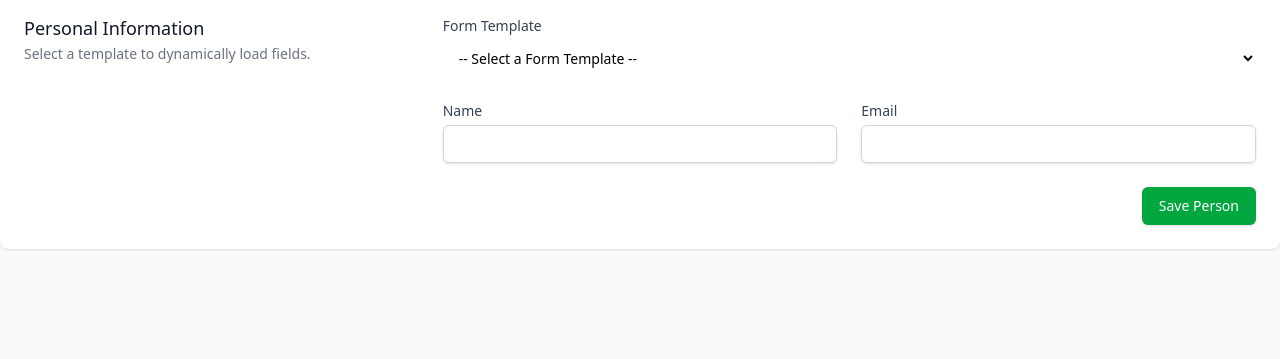
Test: PersonCreate.vue › displays error message when API returns 400 Bad Request
This screenshot has width=1280, height=359.
Note: Fill form
Step 1. Type "Test User" into the field with id "name" → (640, 144), box [443,125,837,163]
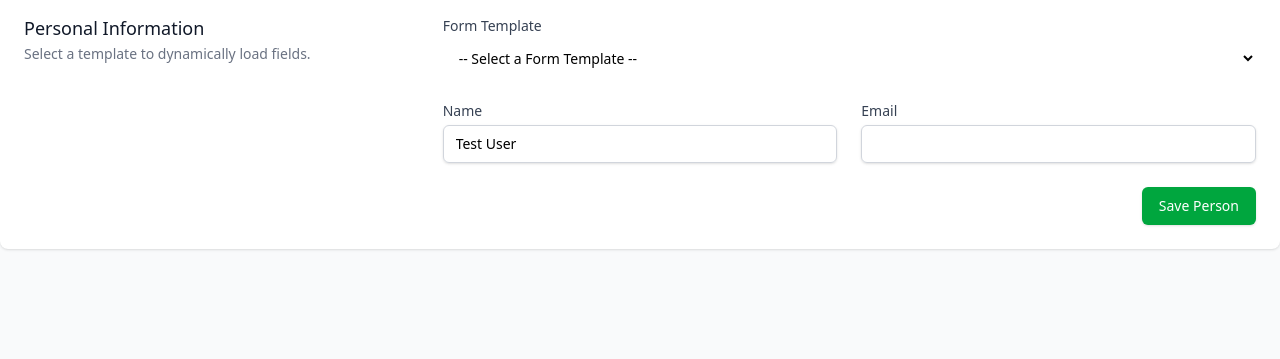
Step 2. Type "duplicate@example.com" into the field with id "email" → (1059, 144), box [861,125,1256,163]
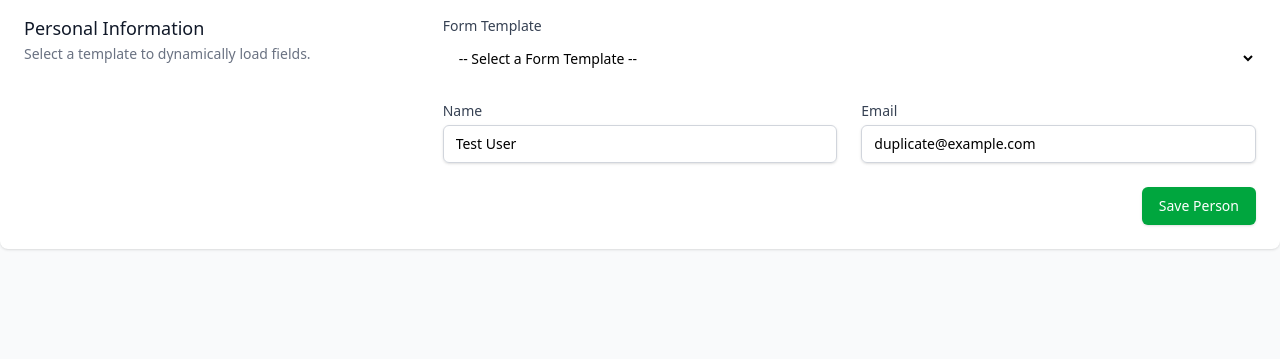
Step 3. Submit the form, box [443,16,1256,225]
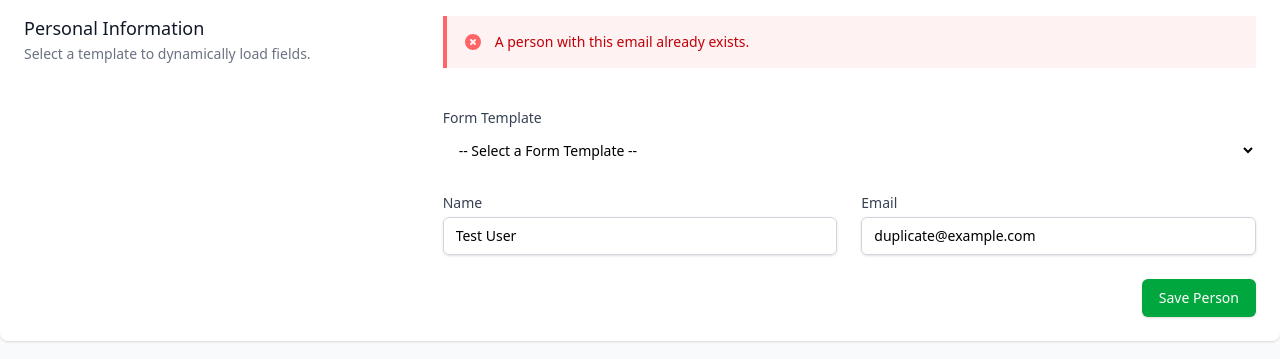
Check: the text "A person with this email already exists." is shown, box [495,32,749,52]
